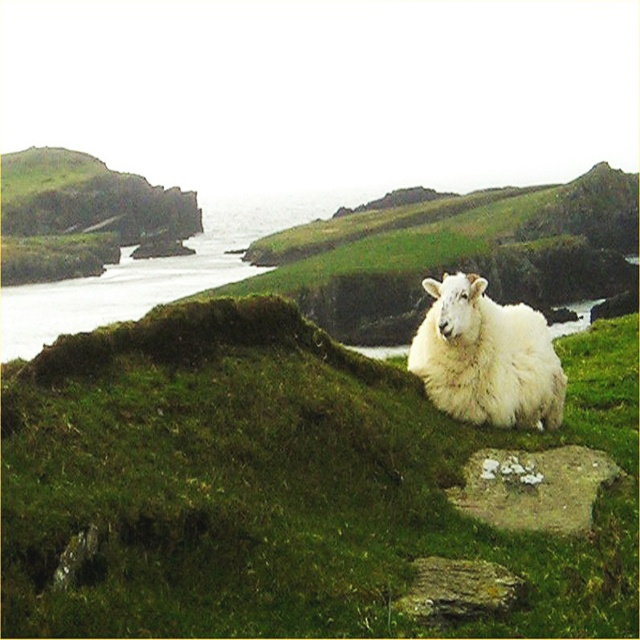Sheep: (405, 268, 566, 433)
